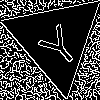Y: (30, 15, 84, 71)
